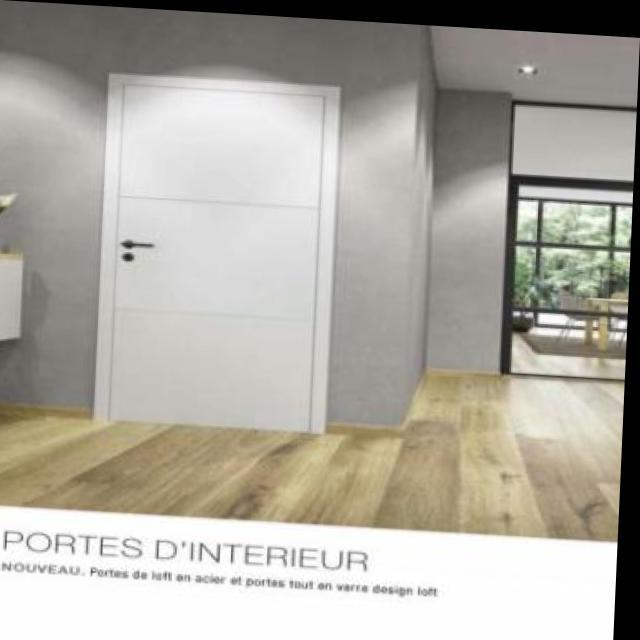door_handle: (123, 235, 164, 255)
